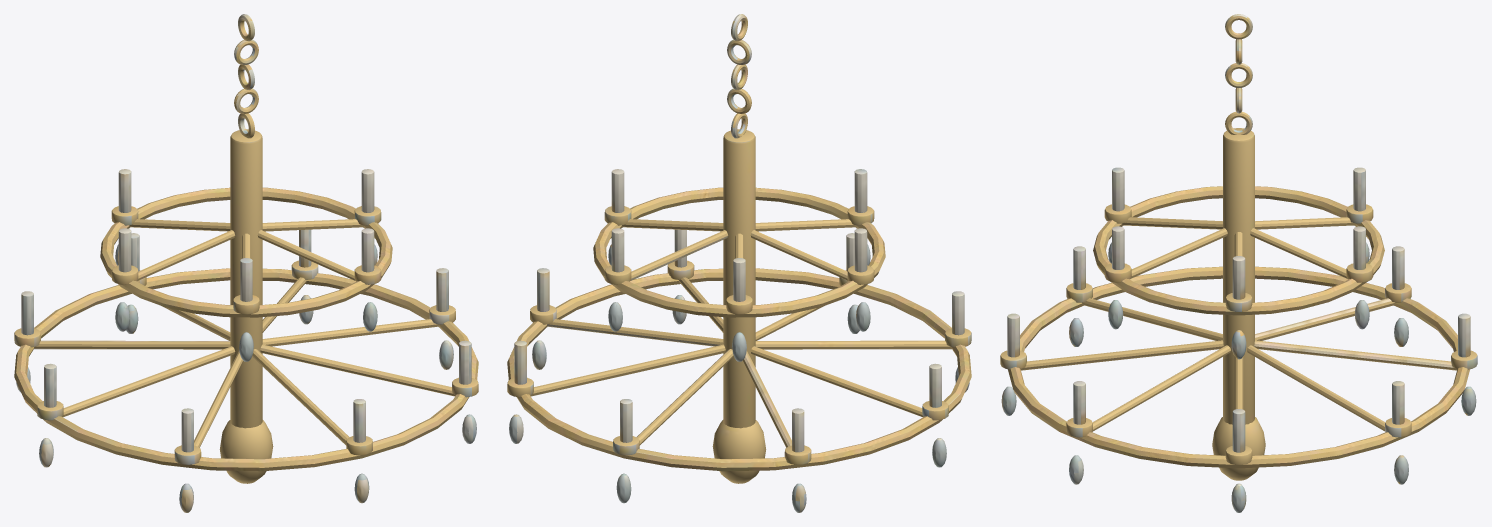
Rendered from chandelier.glb.
3 renders of one model, left to right at view 1: azimuth 30°, elevation 25°; view 2: azimuth 150°, elevation 25°; view 3: azimuth 270°, elevation 25°, orthographic.
Visible parts, largest first — view 1: hoop0, column, hoop1, finial, arm03, arm07, arm04, arm00, arm06, arm13, arm15, arm10 (+14 smaller); view 2: hoop0, column, hoop1, finial, arm05, arm01, arm04, arm00, arm02, arm13, arm11, arm10 (+14 smaller); view 3: hoop0, column, hoop1, arm02, arm06, finial, arm01, arm07, arm03, arm05, arm11, arm15 (+14 smaller).
Part boxes in pixels (x1,y1,x2,y2): hoop0: (14,268,478,471); column: (230,129,262,428); hoop1: (100,187,392,317); finial: (219,420,273,483); arm03: (34,340,230,349); arm07: (260,344,455,396); arm04: (62,346,235,417); arm00: (262,319,438,346); arm06: (252,349,349,445); arm13: (137,230,235,280); arm15: (257,230,354,280); arm10: (262,219,363,231); hoop0: (507,268,971,471); column: (723,129,755,428); hoop1: (593,187,885,317); finial: (712,420,766,483); arm05: (755,340,951,349); arm01: (530,344,725,396); arm04: (750,346,923,417); arm00: (547,319,723,346); arm02: (636,349,733,445); arm13: (750,230,848,280); arm11: (631,230,728,280); arm10: (622,219,723,231); hoop0: (1008,266,1469,468); column: (1223,128,1254,424); hoop1: (1093,186,1384,315); arm02: (1254,340,1457,370); arm06: (1020,340,1223,370); finial: (1212,417,1265,480); arm01: (1247,345,1385,431); arm07: (1092,345,1230,431); arm03: (1255,298,1395,340); arm05: (1082,298,1222,340); arm11: (1250,228,1347,278); arm15: (1130,228,1227,278).
Size of the model in its own units: 0.8887 by 0.956 by 0.89.
1 material, 1 textured.
